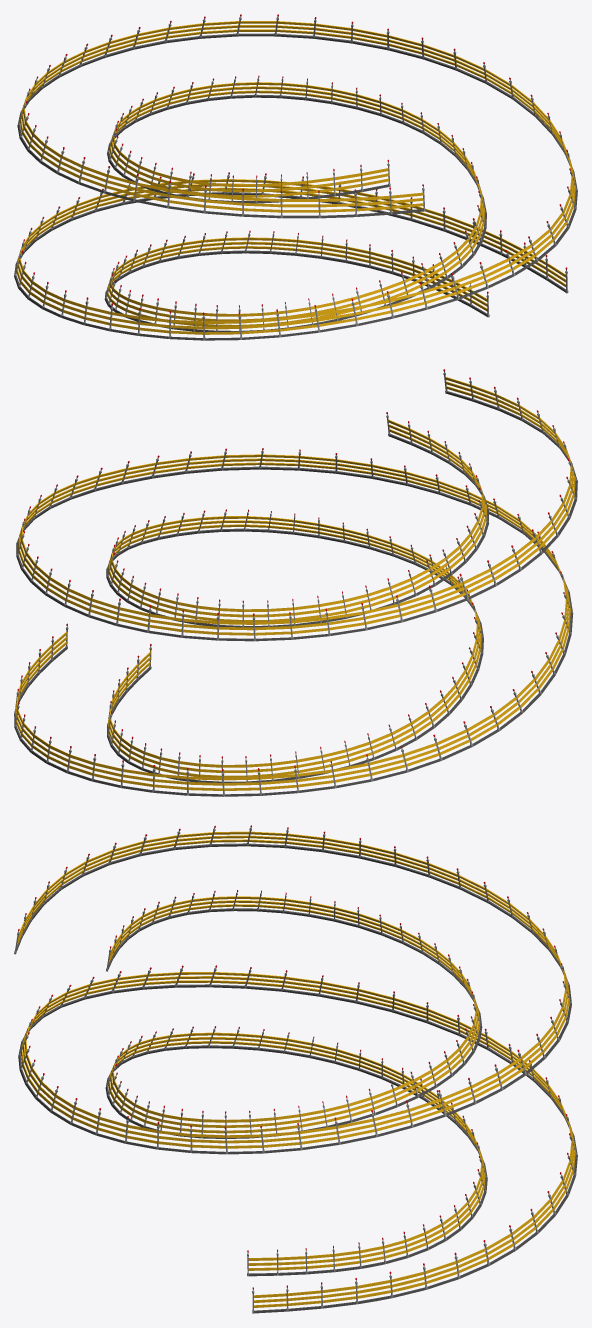
Rendered from Bande2.fbx.
The picture shows the model from 3 angles, top to bottom: view 1: azimuth 30°, elevation 25°; view 2: azimuth 150°, elevation 25°; view 3: azimuth 270°, elevation 25°; orthographic projection.
Parts seen in each view (by area): view 1: BandeGrosseKurve; view 2: BandeGrosseKurve; view 3: BandeGrosseKurve.
Boxes of the visible parts, left/top/right/bottom form: BandeGrosseKurve: left=14, top=14, right=577, bottom=340; BandeGrosseKurve: left=14, top=369, right=577, bottom=796; BandeGrosseKurve: left=14, top=825, right=577, bottom=1313.
Bounding box in the file's own units: 24705 × 12737 × 24496.
